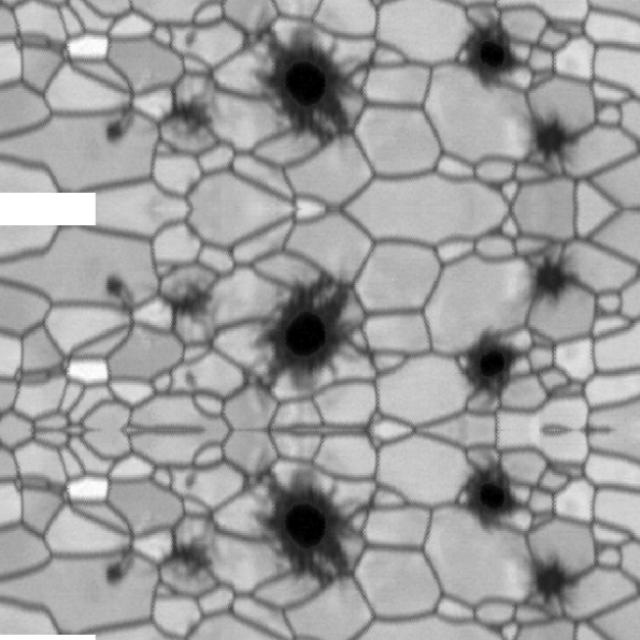good_void: (254, 277, 365, 393), (254, 469, 365, 585), (254, 26, 365, 142), (457, 328, 530, 400), (457, 462, 530, 534), (457, 19, 530, 91), (522, 244, 580, 308), (522, 554, 580, 618), (522, 111, 580, 175), (172, 282, 214, 326), (172, 536, 214, 580), (172, 93, 214, 137), (180, 367, 208, 393), (180, 469, 208, 495), (180, 26, 208, 52), (104, 275, 132, 299), (104, 563, 132, 587), (104, 120, 132, 144)
